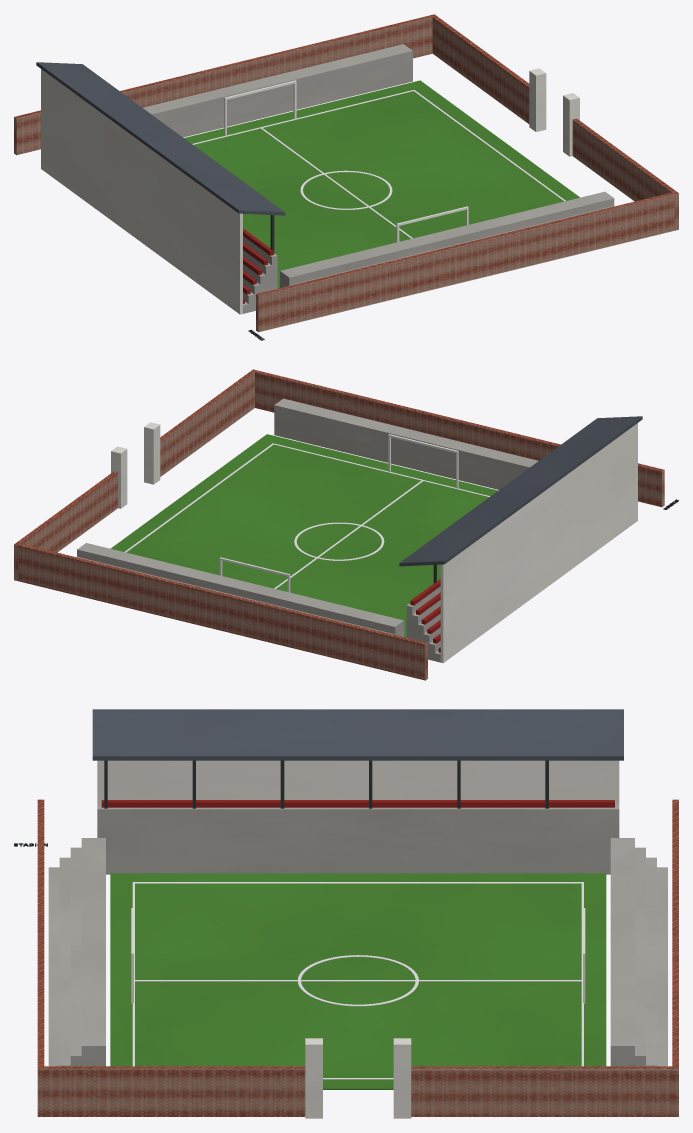
File: dum_14_stadion_stary.glb
3 views of the same model, one above another, from view 1: azimuth 30°, elevation 25°; view 2: azimuth 150°, elevation 25°; view 3: azimuth 270°, elevation 25° (orthographic). The views are drawn at different scales.
Visible parts, largest first — view 1: dum; view 2: dum; view 3: dum.
Boxes of the visible parts, x1,y1,x2,y2 form: dum: (14, 14, 678, 340); dum: (14, 369, 678, 680); dum: (14, 709, 678, 1118).
Size of the model in its own units: 26.99 by 6.41 by 27.59.
Materials: 1 (1 with a texture image).
